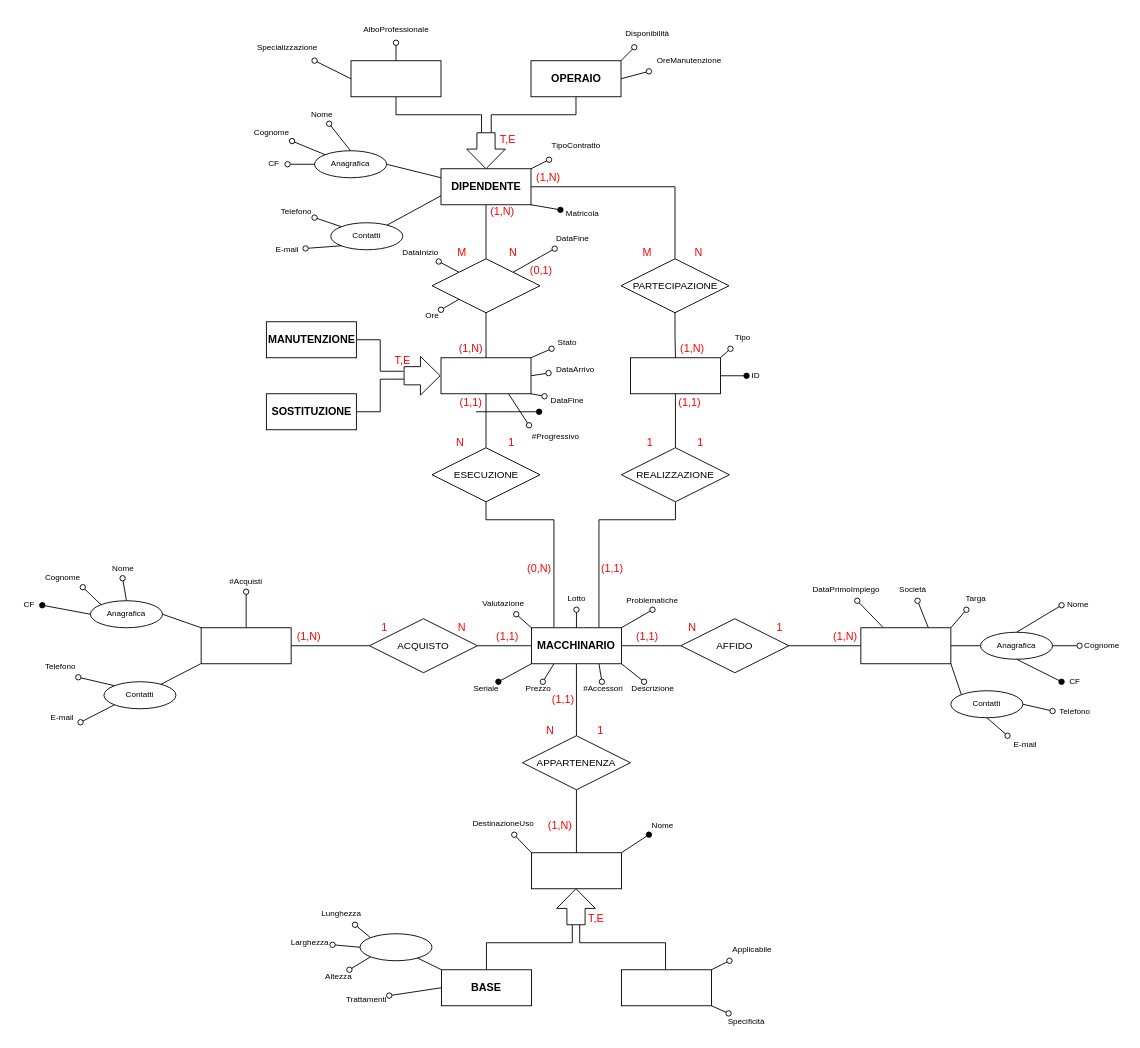
This 1140x1048 diagram has some shape labels left out. The box of each missing label's shape, as (x1, y1, x2, y2) in pixels:
ACCESSORIA: (621, 969, 711, 1006)
CATEGORIA: (531, 852, 621, 889)
CLIENTE: (200, 627, 291, 664)
COINVOLGIMENTO: (431, 258, 540, 313)
CORRIERE: (860, 627, 951, 664)
Dimensioni: (359, 933, 432, 961)
INGEGNERE: (350, 60, 441, 97)
INTERVENTO: (440, 357, 531, 394)
PROGETTO: (630, 357, 720, 394)
